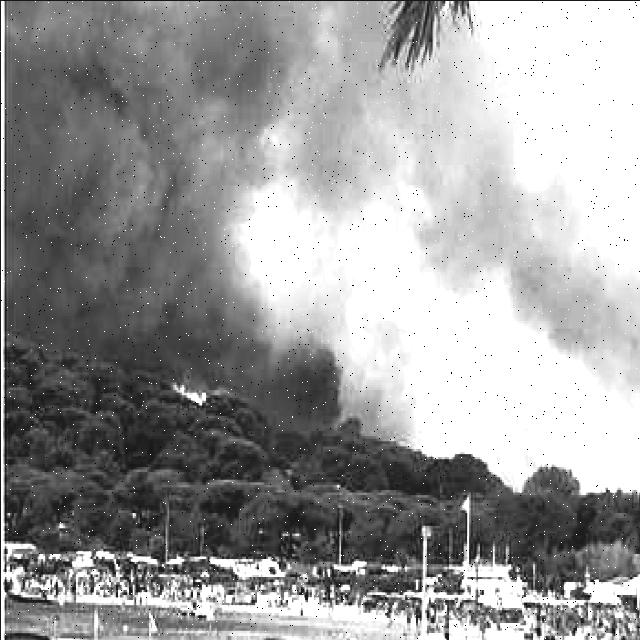api: (173, 379, 211, 412)
asap: (1, 1, 640, 508)
